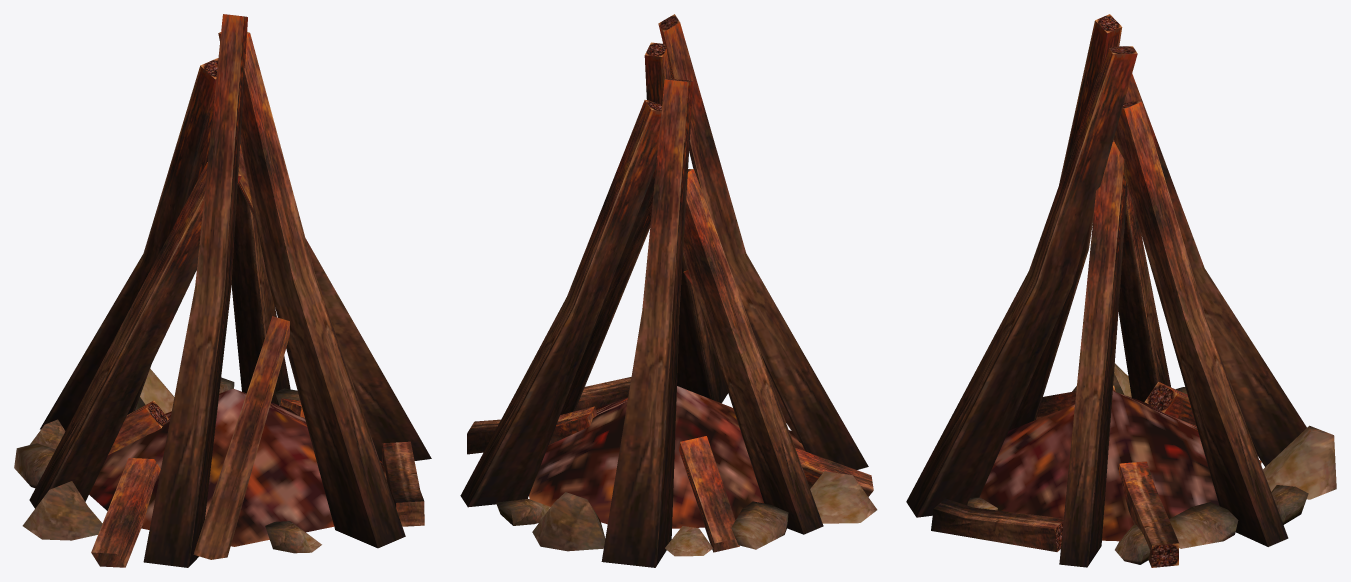
Rendered from SC_SLgouhuo01.FBX.
3 renders of one model, left to right at view 1: azimuth 30°, elevation 25°; view 2: azimuth 150°, elevation 25°; view 3: azimuth 270°, elevation 25°, orthographic. The views are drawn at different scales.
Visible parts, largest first — view 1: SC_SLgouhuo01; view 2: SC_SLgouhuo01; view 3: SC_SLgouhuo01.
Boxes of the visible parts, box(x1,y1,x2,y2) form: SC_SLgouhuo01: box(14, 14, 431, 567); SC_SLgouhuo01: box(460, 14, 877, 567); SC_SLgouhuo01: box(906, 14, 1336, 567).
Bounding box in the file's own units: 146 × 177 × 143.
